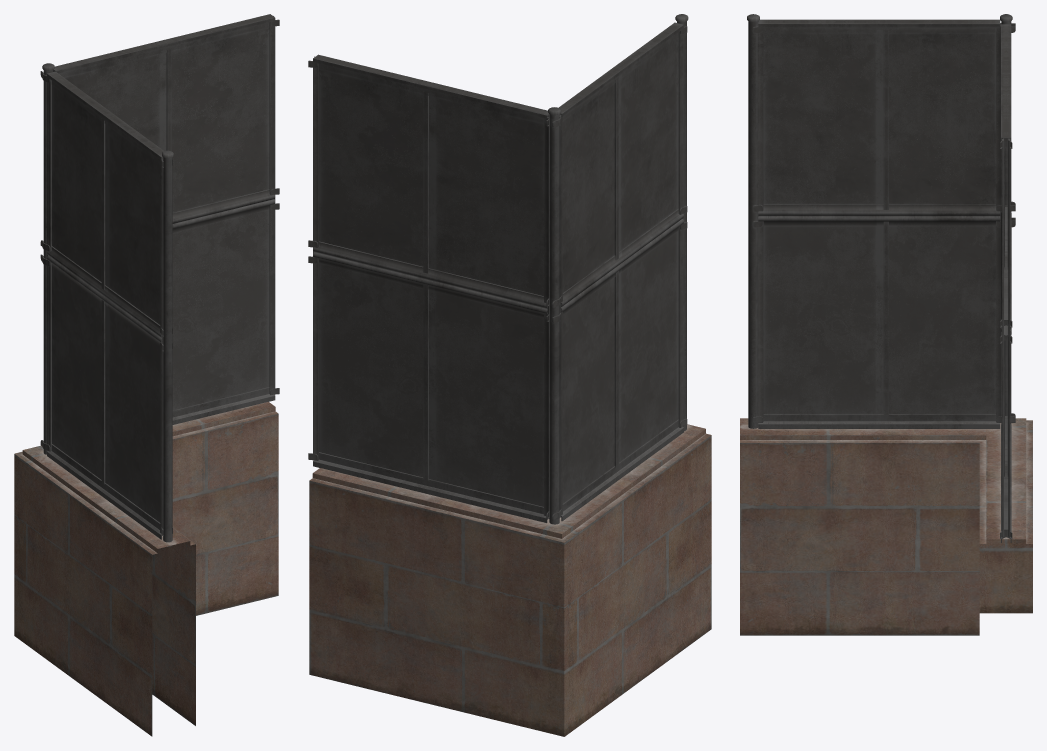
Rendered from SM_Fence_02_Corner.fbx.
The picture shows the model from 3 angles, left to right: view 1: azimuth 30°, elevation 25°; view 2: azimuth 150°, elevation 25°; view 3: azimuth 270°, elevation 25°; orthographic projection. The views are drawn at different scales.
Parts seen in each view (by area): view 1: SM_Fence_02_Corner_LOD0; view 2: SM_Fence_02_Corner_LOD0; view 3: SM_Fence_02_Corner_LOD0.
Part boxes in pixels (x1,y1,x2,y2): SM_Fence_02_Corner_LOD0: (14, 14, 279, 736); SM_Fence_02_Corner_LOD0: (308, 14, 711, 736); SM_Fence_02_Corner_LOD0: (740, 14, 1032, 635).
Bounding box in the file's own units: 115 × 110 × 252.
2 materials, 2 textured.
